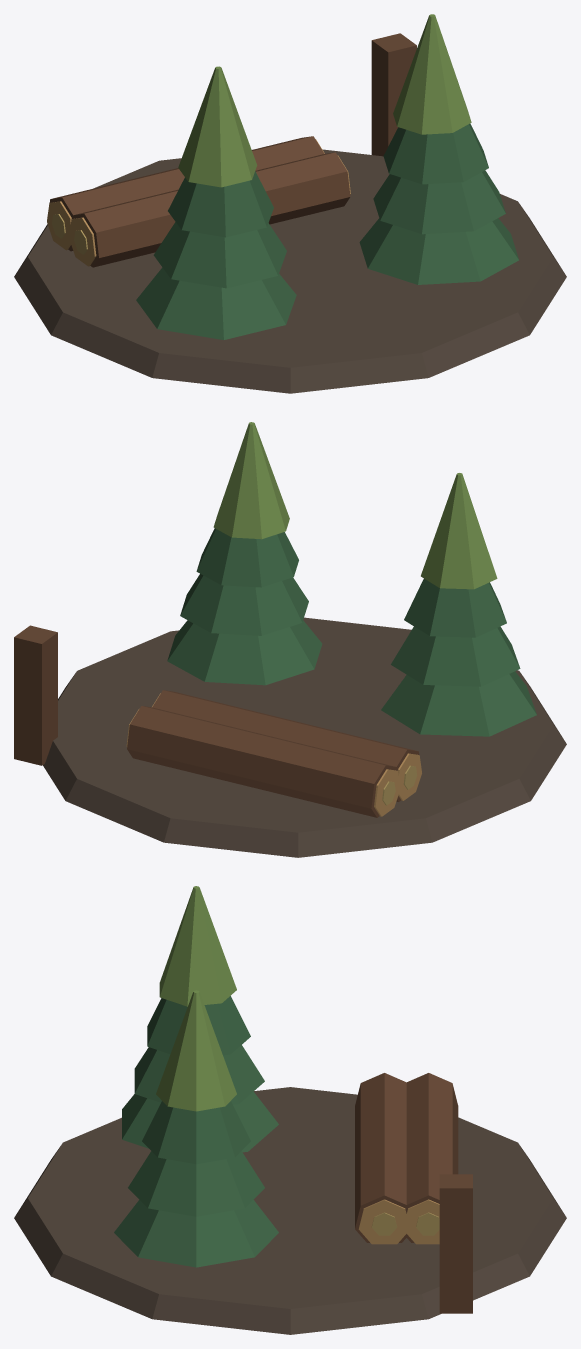
The model's file is Field_Wood_1.fbx.
3 views of the same model, one above another, from view 1: azimuth 30°, elevation 25°; view 2: azimuth 150°, elevation 25°; view 3: azimuth 270°, elevation 25° (orthographic). The views are drawn at different scales.
Parts seen in each view (by area): view 1: Field_Wood_1; view 2: Field_Wood_1; view 3: Field_Wood_1.
Part boxes in pixels (x1,y1,x2,y2): Field_Wood_1: (14, 14, 566, 393); Field_Wood_1: (14, 422, 566, 857); Field_Wood_1: (14, 886, 566, 1334).
Size of the model in its own units: 2 by 1.09 by 2.
1 material, 1 textured.
